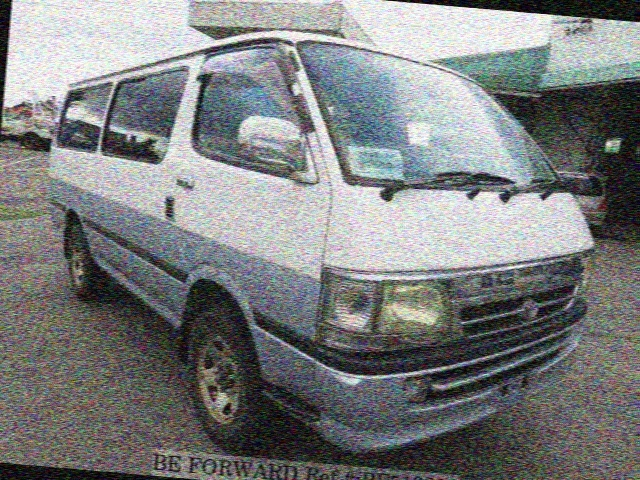van: (28, 19, 617, 468)
